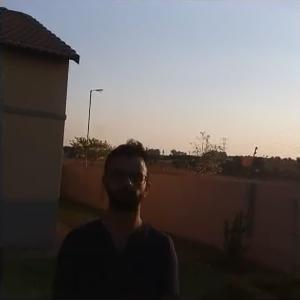follow: (45, 134, 181, 298)
